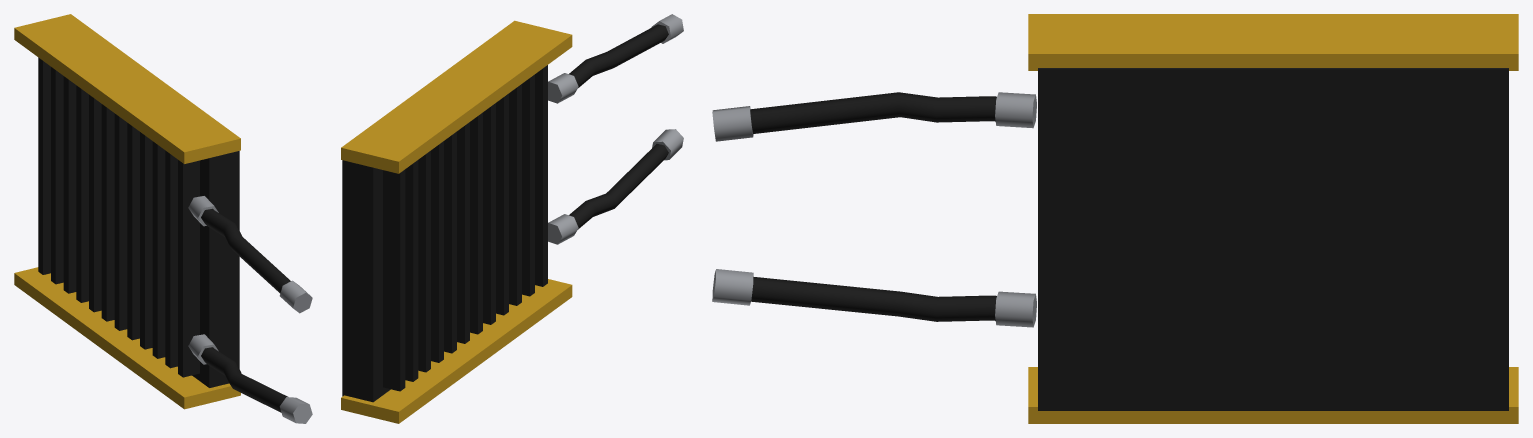
The picture shows the model from 3 angles, left to right: view 1: azimuth 30°, elevation 25°; view 2: azimuth 150°, elevation 25°; view 3: azimuth 270°, elevation 25°; orthographic projection. The views are drawn at different scales.
Visible parts, largest first — view 1: kt1_hx; view 2: kt1_hx; view 3: kt1_hx.
Boxes of the visible parts, bbox=[...] form: kt1_hx: bbox=[14, 14, 312, 423]; kt1_hx: bbox=[341, 14, 683, 423]; kt1_hx: bbox=[712, 14, 1518, 423].
Bounding box in the file's own units: 0.3139 × 1.3 × 2.57.
